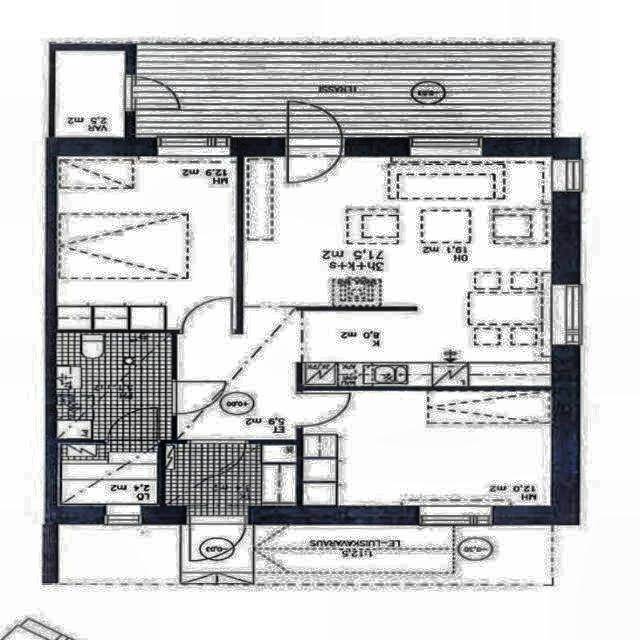room: (57, 156, 237, 330), (302, 390, 551, 506), (56, 333, 172, 440), (165, 444, 296, 507), (58, 443, 157, 507), (56, 51, 125, 137)
